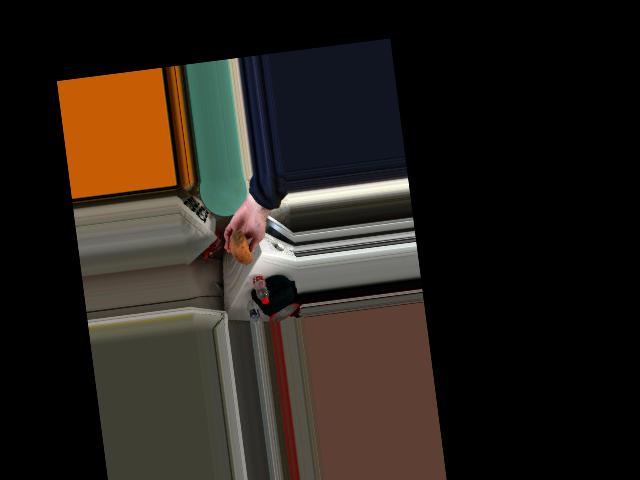sweet_potato: (228, 224, 251, 267)
